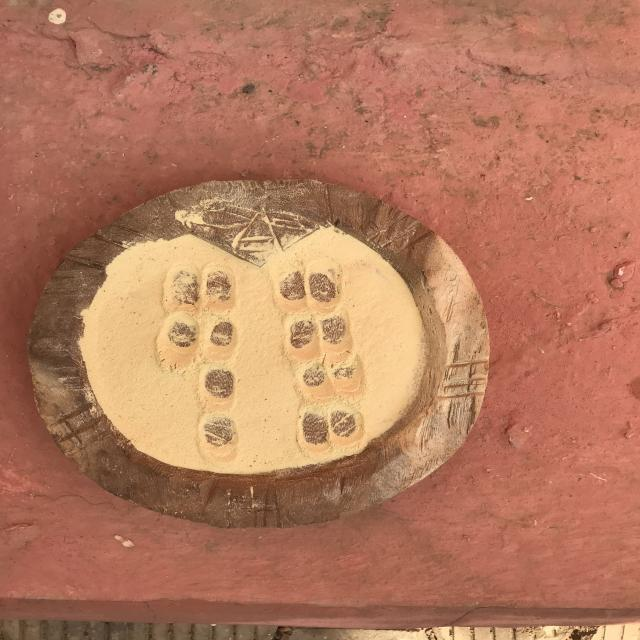double: (152, 310, 246, 366), (267, 258, 349, 314), (159, 261, 240, 314), (294, 351, 370, 406), (292, 406, 368, 456), (280, 312, 355, 362)
single: (194, 410, 242, 464), (198, 362, 242, 410)
